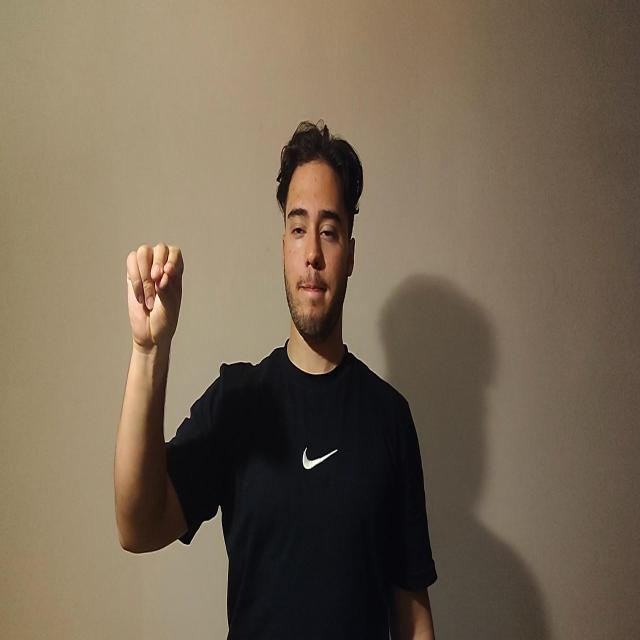no: (126, 241, 184, 350)
